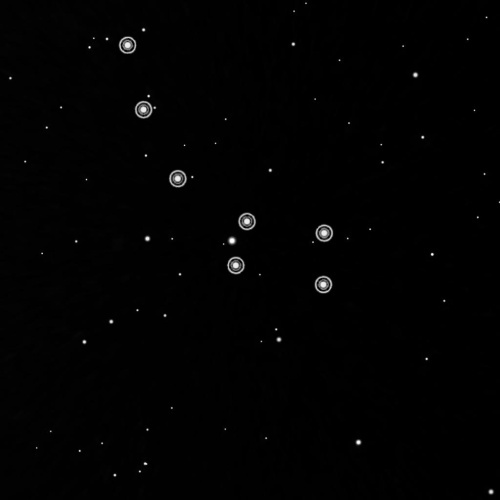ursa_minor: (112, 31, 339, 302)
